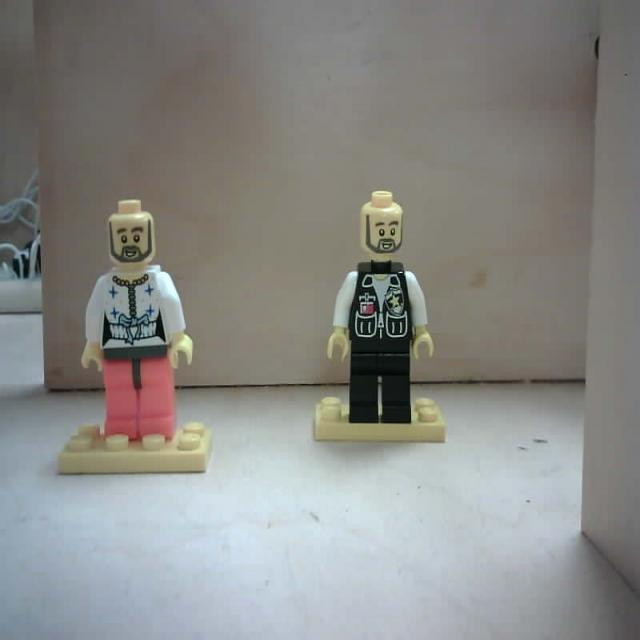Lego-People: (57, 199, 212, 478), (315, 189, 448, 447)
